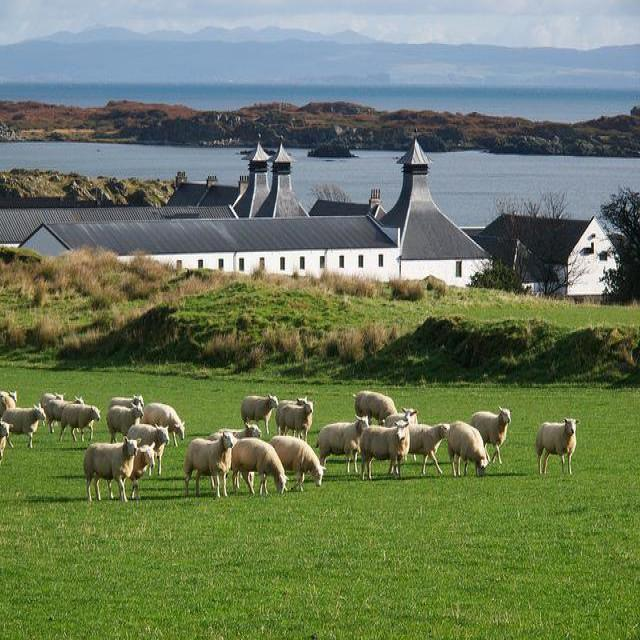Sheep: (0, 384, 419, 492), (84, 436, 141, 505), (532, 410, 585, 482), (94, 442, 155, 502), (184, 431, 237, 498), (232, 438, 288, 494), (320, 414, 369, 474), (468, 405, 513, 464), (446, 420, 488, 479), (407, 421, 449, 476), (129, 424, 170, 477), (1, 403, 47, 449)
